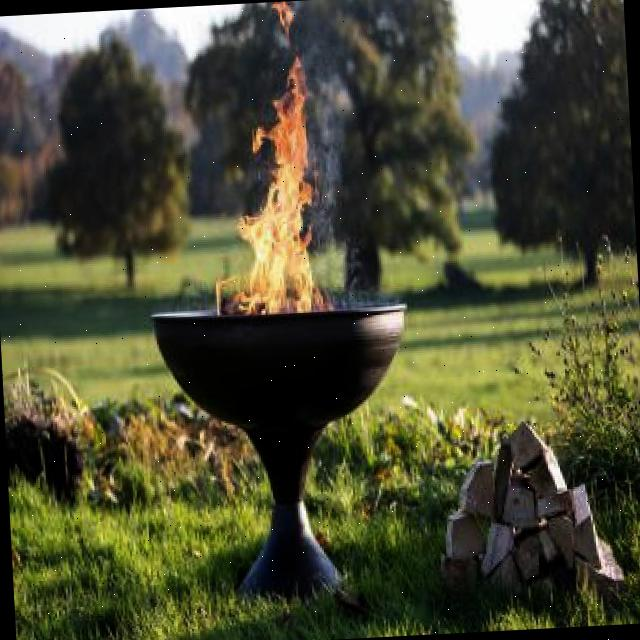fire: (229, 70, 319, 300), (300, 42, 350, 240), (318, 235, 370, 308)
